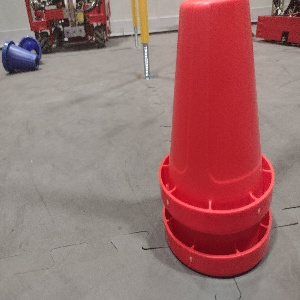Blue_1: (1, 38, 38, 72), (18, 36, 42, 63)
Red_2: (157, 0, 275, 279)
